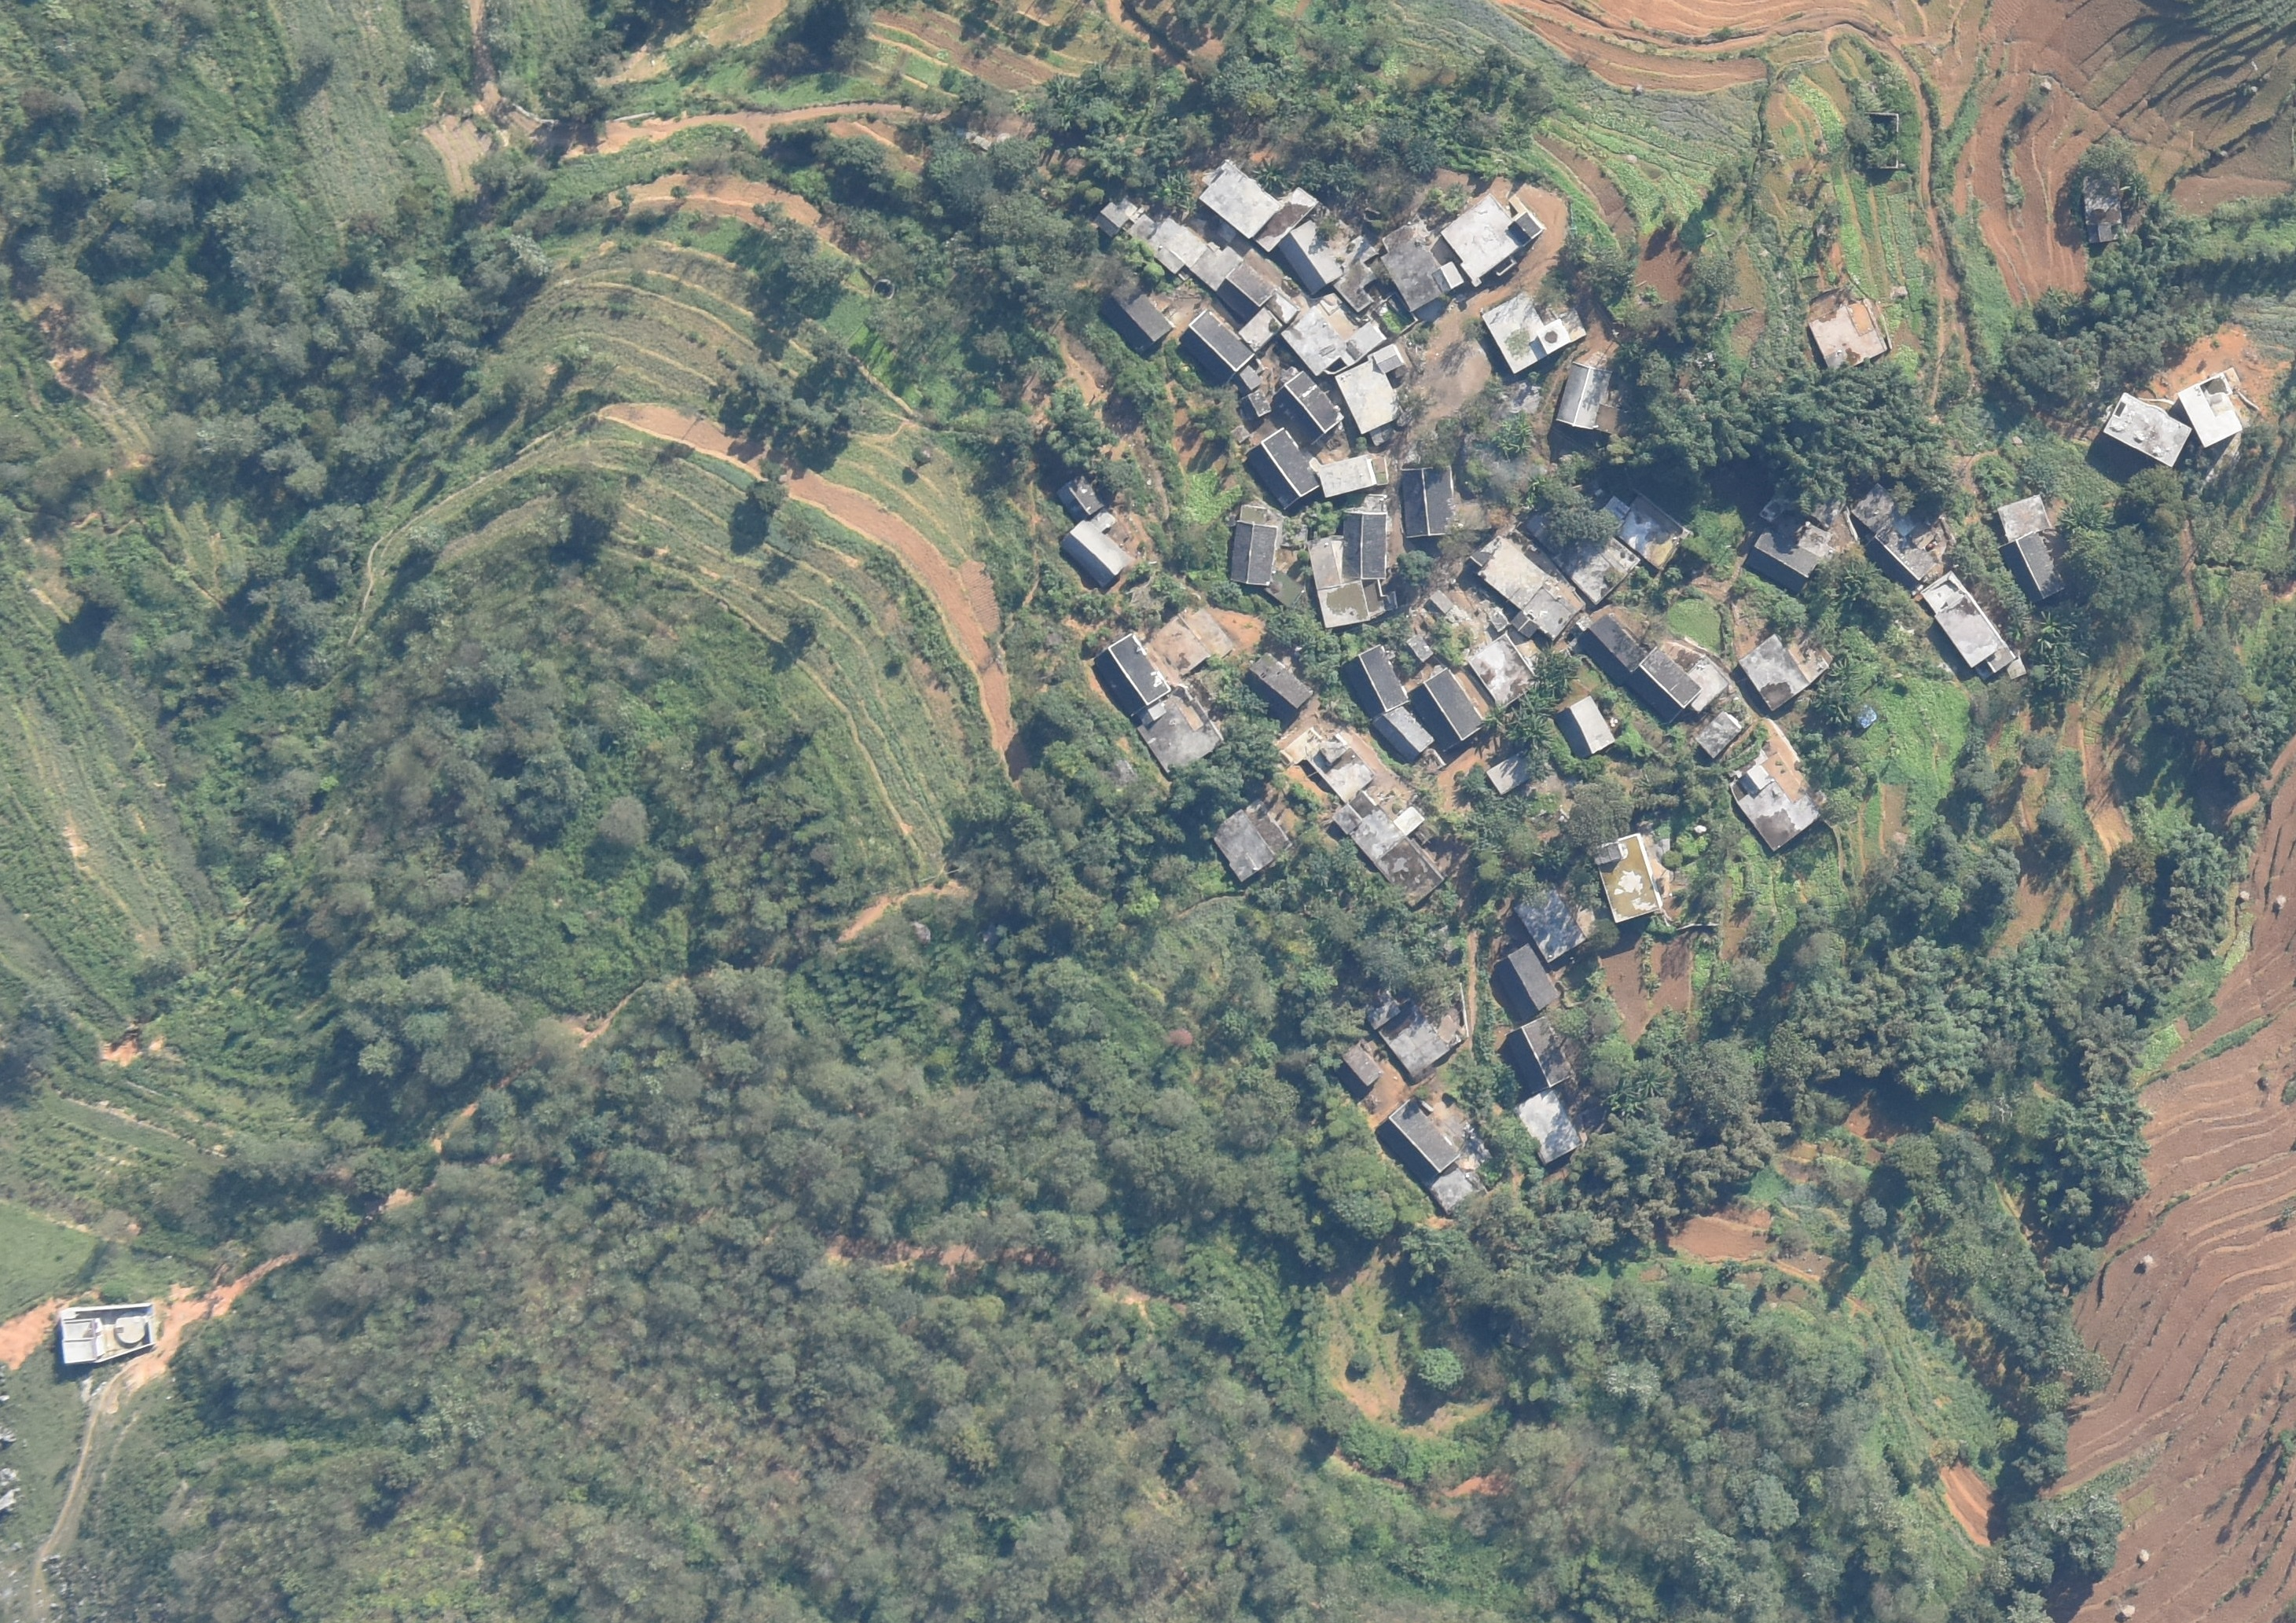building: (1332, 796, 1444, 905), (1920, 576, 2025, 689), (1467, 539, 1578, 639), (1374, 1100, 1472, 1212), (1305, 508, 1390, 627), (1440, 193, 1541, 286), (1848, 483, 1945, 576), (1481, 295, 1583, 371), (56, 1302, 165, 1372), (1732, 764, 1815, 852), (1737, 636, 1832, 711), (1592, 831, 1665, 927), (2103, 388, 2189, 471), (1806, 295, 1894, 376), (1333, 344, 1412, 434), (1999, 497, 2066, 602), (1386, 225, 1463, 313), (1556, 523, 1644, 599), (1145, 218, 1237, 290), (1599, 497, 1690, 569), (1282, 311, 1386, 374), (1093, 634, 1168, 720), (1198, 162, 1277, 241), (1370, 994, 1448, 1075), (1179, 311, 1256, 390), (1140, 696, 1217, 771), (1513, 878, 1586, 957), (1247, 427, 1318, 509), (1632, 643, 1702, 725), (1750, 518, 1834, 587), (1409, 671, 1484, 747), (1212, 803, 1286, 878), (1282, 732, 1368, 796), (1275, 216, 1340, 293), (1100, 281, 1170, 351), (1578, 617, 1646, 689), (1558, 358, 1623, 434), (1467, 638, 1537, 706), (1518, 1094, 1583, 1166), (1504, 1017, 1567, 1091), (1256, 184, 1323, 253), (1342, 646, 1405, 718), (1495, 945, 1555, 1021), (2180, 379, 2245, 448), (1272, 372, 1335, 439), (1059, 520, 1126, 583), (1398, 464, 1455, 536), (1233, 295, 1296, 351), (1249, 659, 1310, 715), (1230, 516, 1275, 587), (1337, 235, 1381, 307), (1558, 699, 1613, 757), (1372, 706, 1433, 757), (1217, 262, 1272, 316), (1316, 457, 1391, 495), (2083, 179, 2127, 241), (1094, 198, 1154, 241), (1056, 471, 1100, 523), (1333, 1047, 1381, 1093), (1695, 715, 1744, 759), (1484, 755, 1541, 792), (1400, 632, 1433, 667), (1242, 390, 1272, 418), (1425, 590, 1451, 622)
well: (114, 1310, 149, 1345)
